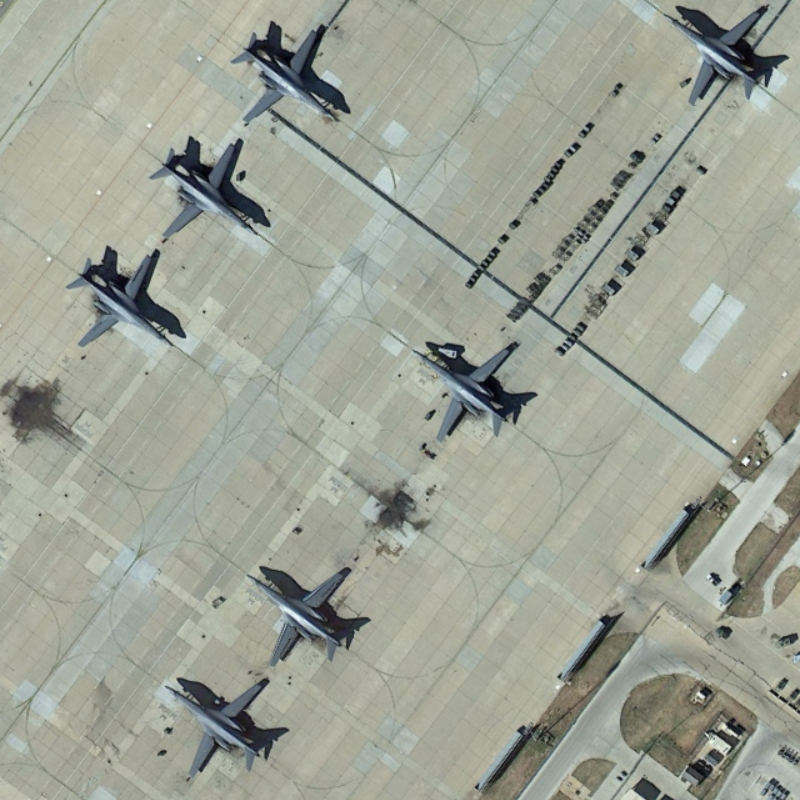A10: (647, 1, 794, 117), (137, 132, 278, 248), (62, 244, 202, 359), (148, 672, 289, 782), (227, 12, 354, 134), (239, 560, 372, 672), (404, 337, 536, 445)
